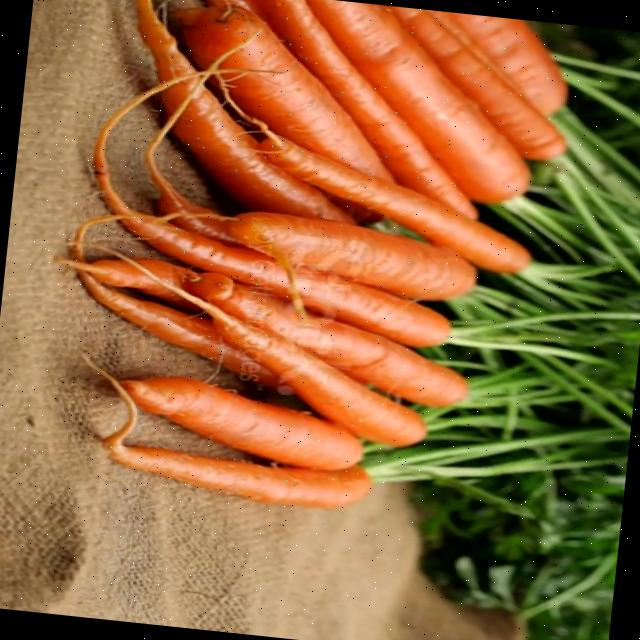carrot: (262, 0, 474, 218), (139, 7, 350, 222), (306, 0, 527, 203), (120, 213, 449, 346), (172, 288, 425, 447), (259, 130, 530, 274), (173, 6, 392, 181), (185, 272, 467, 405), (103, 399, 370, 508), (387, 8, 563, 160), (79, 271, 277, 385), (224, 211, 474, 300), (120, 378, 361, 470), (450, 14, 566, 115), (66, 257, 197, 292)
